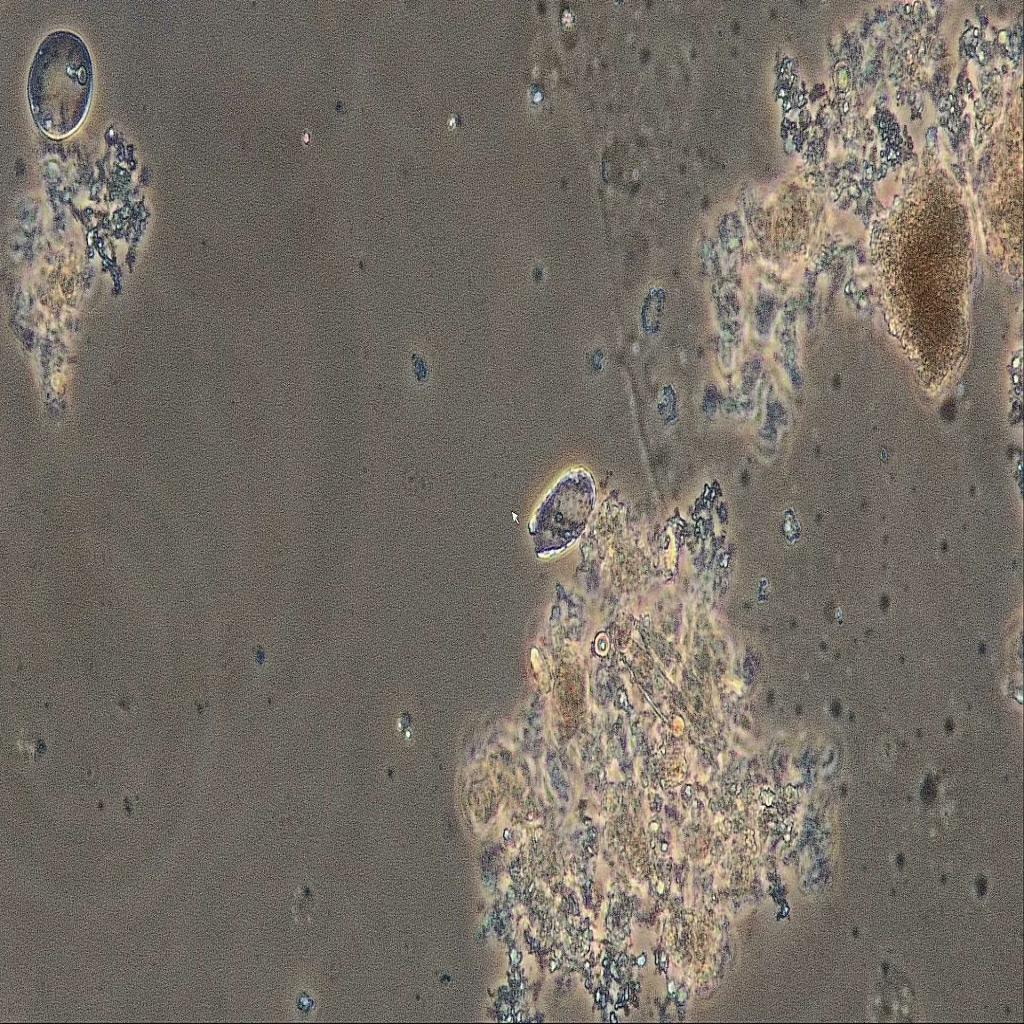Euglypha: (501, 444, 596, 558)
